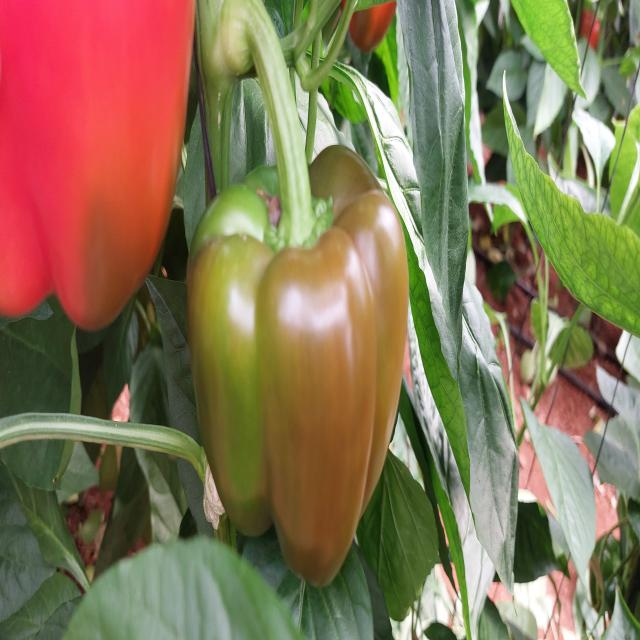BrownishRed--Can-be-Harvested: (192, 169, 410, 586)
Red-Ready-to-Harvest: (0, 0, 199, 339)
